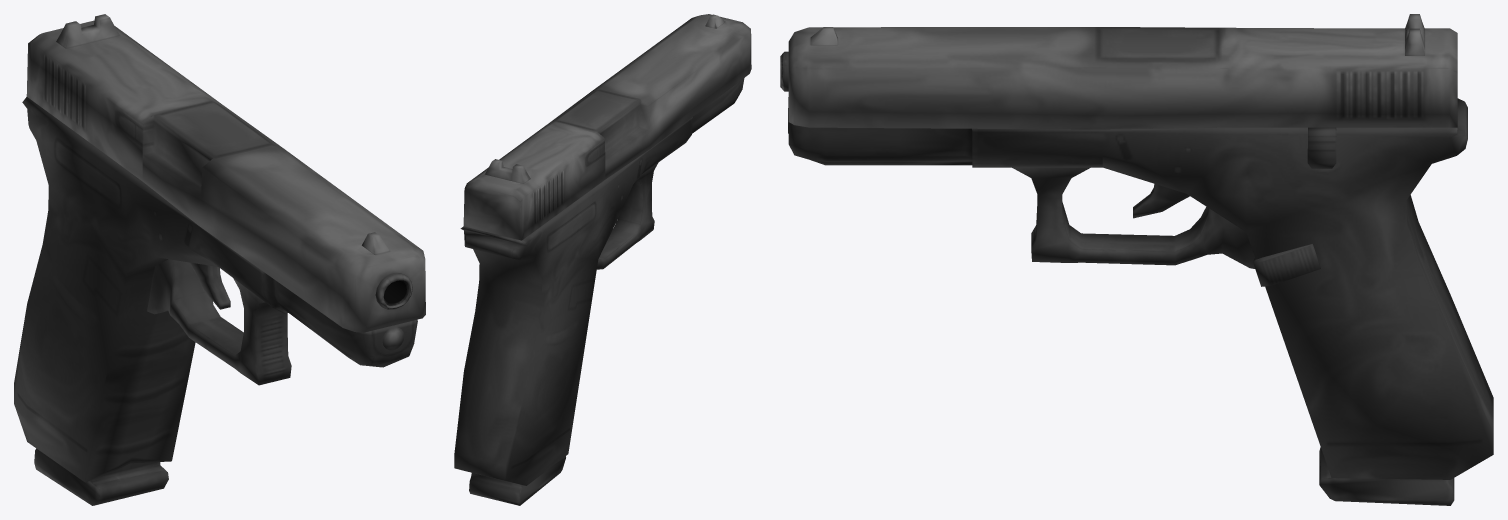
File: Glock.fbx
3 renders of one model, left to right at view 1: azimuth 30°, elevation 25°; view 2: azimuth 150°, elevation 25°; view 3: azimuth 270°, elevation 25°, orthographic. The views are drawn at different scales.
Visible parts, largest first — view 1: Glock, GlockBarrel, GlockMagazine, GlockTrigger; view 2: Glock, GlockBarrel, GlockMagazine; view 3: Glock, GlockBarrel, GlockMagazine, GlockTrigger.
Part boxes in pixels (x1,y1,x2,y2): Glock: (14, 97, 417, 482); GlockBarrel: (26, 14, 425, 332); GlockMagazine: (34, 448, 168, 505); GlockTrigger: (190, 262, 230, 309); Glock: (454, 78, 744, 485); GlockBarrel: (463, 14, 751, 240); GlockMagazine: (469, 456, 565, 505); Glock: (780, 51, 1493, 479); GlockBarrel: (788, 14, 1457, 129); GlockMagazine: (1319, 447, 1454, 505); GlockTrigger: (1133, 184, 1189, 218).
Bounding box in the file's own units: 2.97 × 13.27 × 18.46.
